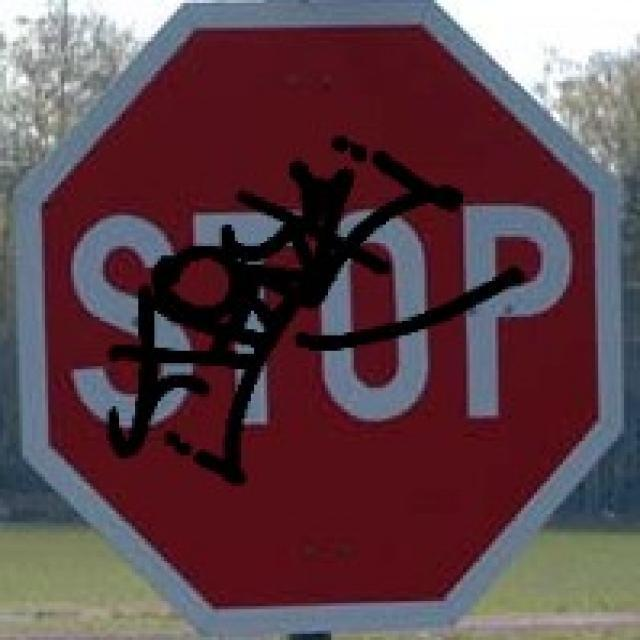Stop-Sign: (26, 30, 588, 613)
